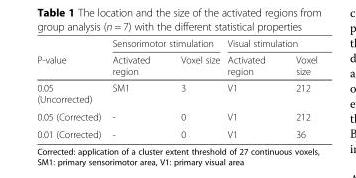table: (36, 37, 316, 139)
table column: (36, 37, 105, 139), (105, 37, 164, 139), (164, 37, 223, 139), (223, 37, 279, 139), (279, 37, 316, 139)
table column header: (36, 37, 316, 79)
table row: (36, 51, 316, 79), (36, 79, 316, 107), (36, 107, 316, 125), (36, 37, 316, 51), (36, 125, 316, 139)
table spanning cell: (36, 37, 105, 79), (105, 37, 223, 51), (223, 37, 316, 51)
